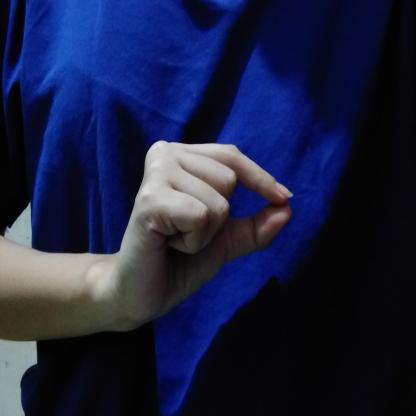nothing: (109, 134, 308, 340)
